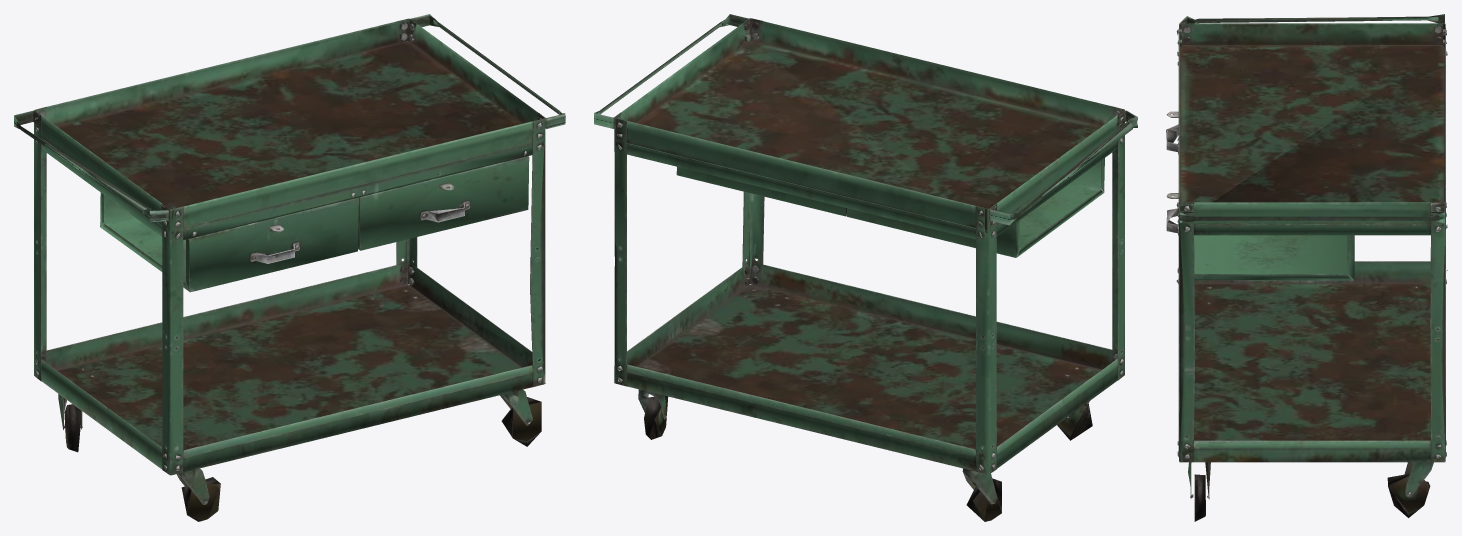
Rendered from tool_cart.glb.
3 renders of one model, left to right at view 1: azimuth 30°, elevation 25°; view 2: azimuth 150°, elevation 25°; view 3: azimuth 270°, elevation 25°, orthographic. The views are drawn at different scales.
Parts seen in each view (by area): view 1: tool_cart; view 2: tool_cart; view 3: tool_cart.
Part boxes in pixels (box(x1,y1,x2,y2)): tool_cart: box(14, 14, 565, 521); tool_cart: box(594, 14, 1137, 521); tool_cart: box(1166, 14, 1447, 521).
Bounding box in the file's own units: 1.27 × 0.9619 × 0.7536.
1 material, 1 textured.
